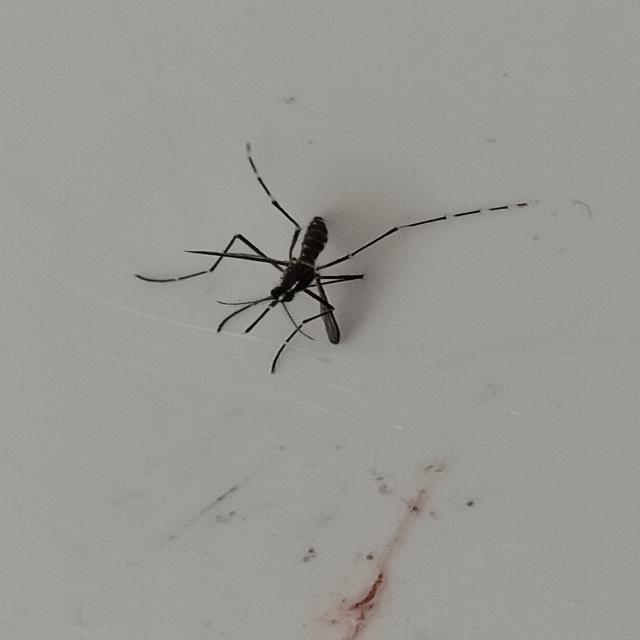albopictus: (133, 134, 552, 374)
